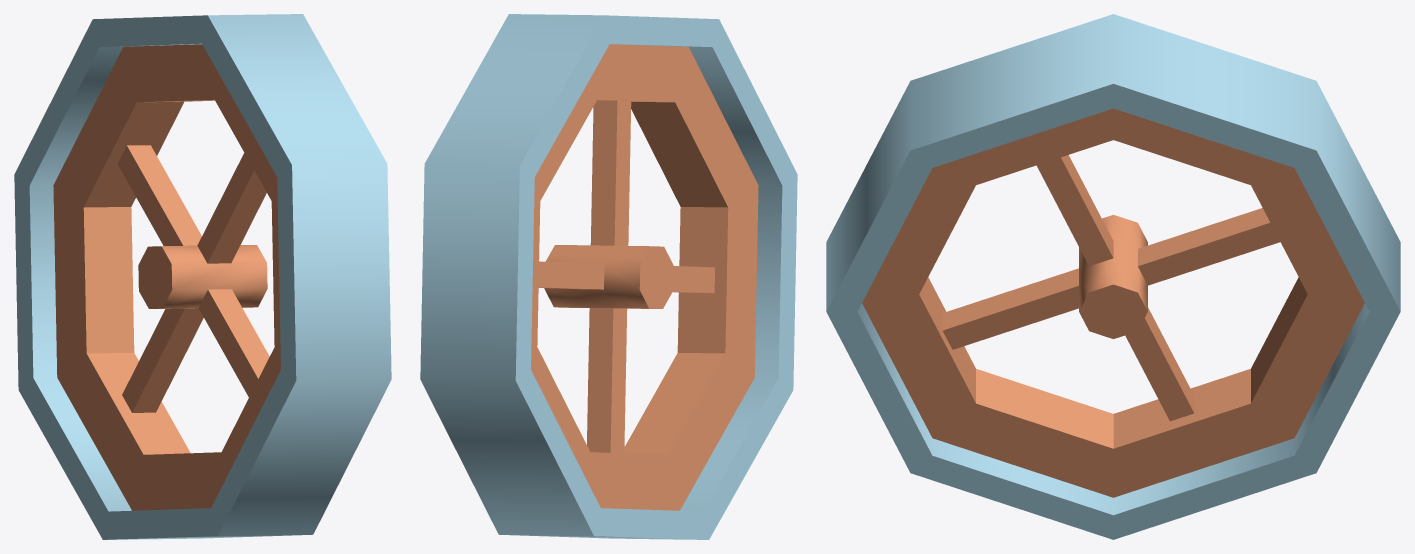
The model's file is wheel.fbx.
3 renders of one model, left to right at view 1: azimuth 30°, elevation 25°; view 2: azimuth 150°, elevation 25°; view 3: azimuth 270°, elevation 25°, orthographic.
Parts seen in each view (by area): view 1: wheel; view 2: wheel; view 3: wheel.
Part boxes in pixels (<box>): wheel: <box>14,14,391,539</box>; wheel: <box>420,14,797,539</box>; wheel: <box>826,14,1400,539</box>.
Size of the model in its own units: 2.08 by 5.16 by 5.06.
